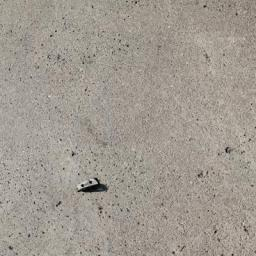FOD: (76, 176, 111, 197)
